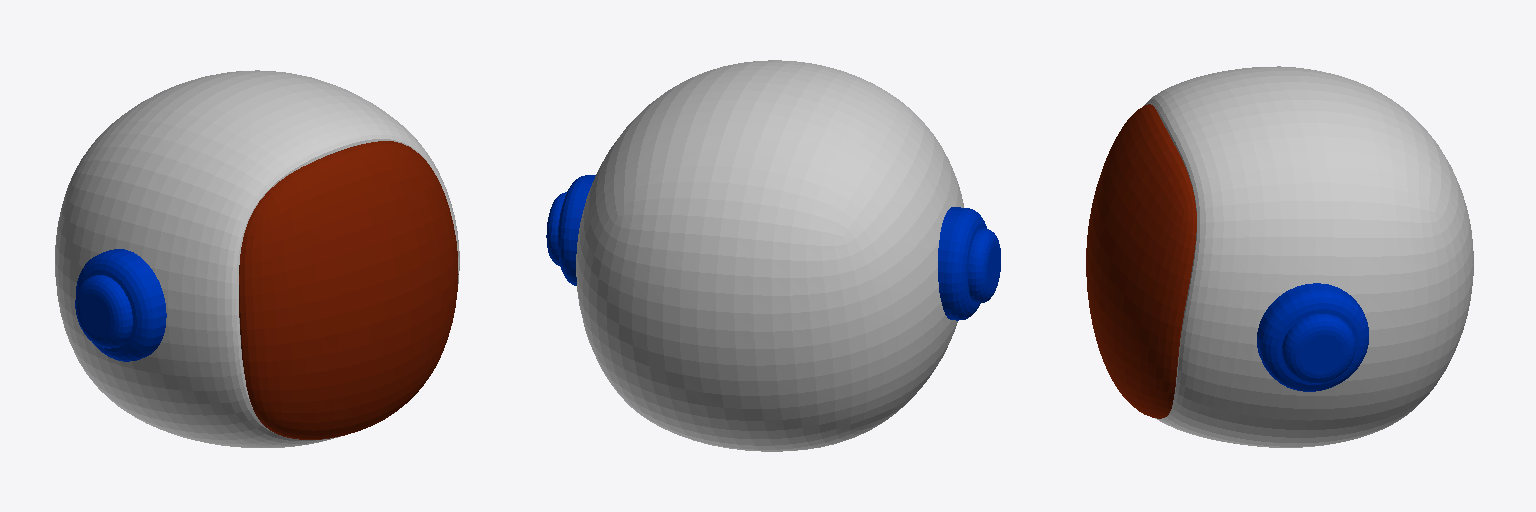
File: head.obj
The picture shows the model from 3 angles: view 1: azimuth 30°, elevation 25°; view 2: azimuth 150°, elevation 25°; view 3: azimuth 270°, elevation 25°; orthographic projection.
Visible parts, largest first — view 1: Cube.001; view 2: Cube.001; view 3: Cube.001.
Part boxes in pixels (bbox=[...]): Cube.001: bbox=[55, 70, 459, 447]; Cube.001: bbox=[546, 60, 1000, 451]; Cube.001: bbox=[1086, 66, 1473, 447].
Size of the model in its own units: 0.655 by 0.5278 by 0.5541.